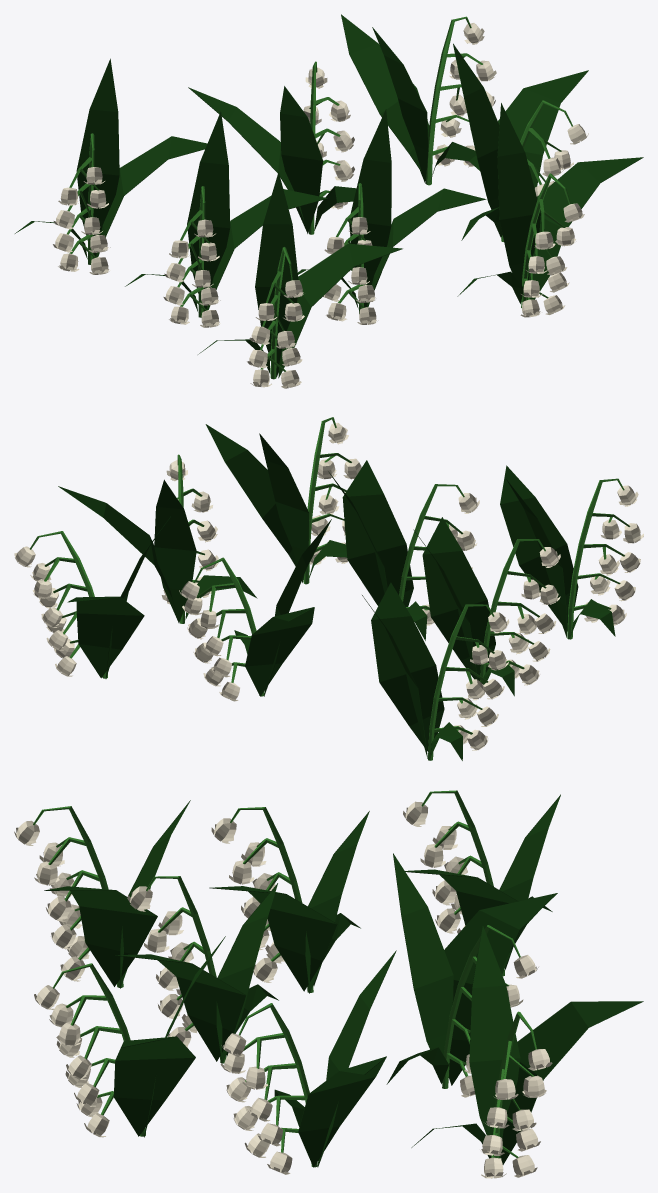
File: 은방울꽃.fbx
3 views of the same model, one above another, from view 1: azimuth 30°, elevation 25°; view 2: azimuth 150°, elevation 25°; view 3: azimuth 270°, elevation 25° (orthographic). The views are drawn at different scales.
Parts seen in each view (by area): view 1: Object009; view 2: Object009; view 3: Object009.
Boxes of the visible parts, box(x1,y1,x2,y2) form: Object009: box(15, 14, 643, 388); Object009: box(14, 417, 643, 760); Object009: box(14, 790, 643, 1178).
Bounding box in the file's own units: 351 × 120 × 330.
